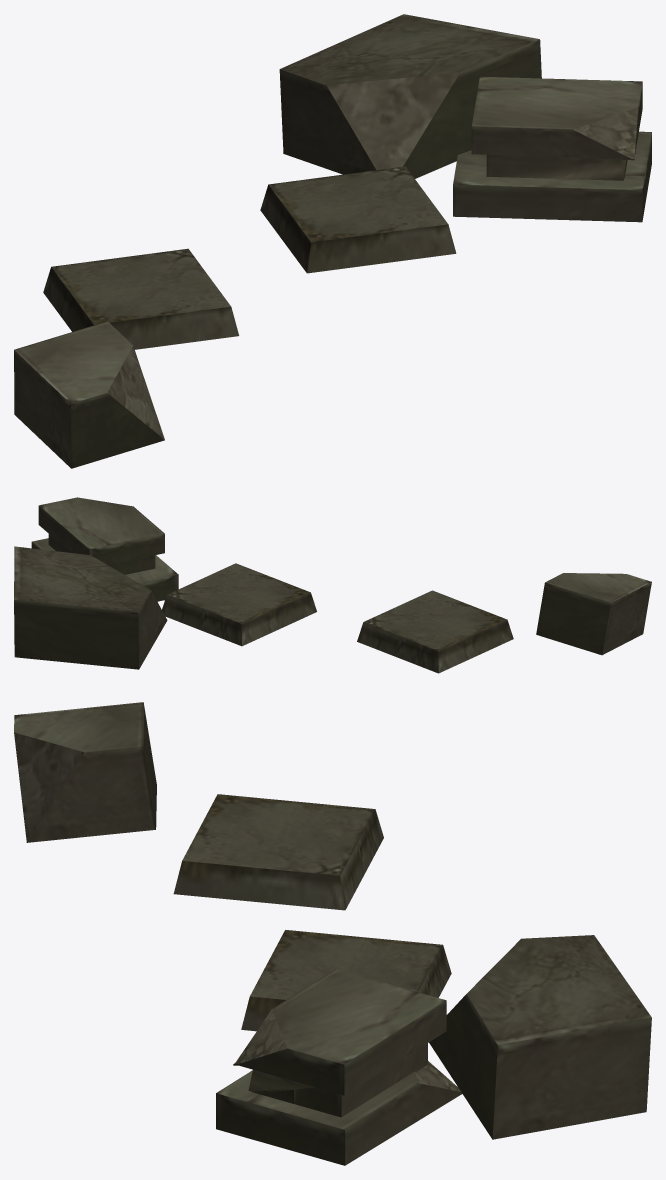
The picture shows the model from 3 angles, top to bottom: view 1: azimuth 30°, elevation 25°; view 2: azimuth 150°, elevation 25°; view 3: azimuth 270°, elevation 25°; orthographic projection. The views are drawn at different scales.
Parts seen in each view (by area): view 1: fx_wj4; view 2: fx_wj4; view 3: fx_wj4.
Boxes of the visible parts, x1=… form: fx_wj4: x1=14, y1=14, x2=651, y2=468; fx_wj4: x1=14, y1=497, x2=651, y2=673; fx_wj4: x1=14, y1=702, x2=651, y2=1165.
Size of the model in its own units: 394 by 57.63 by 266.
1 material, 1 textured.
